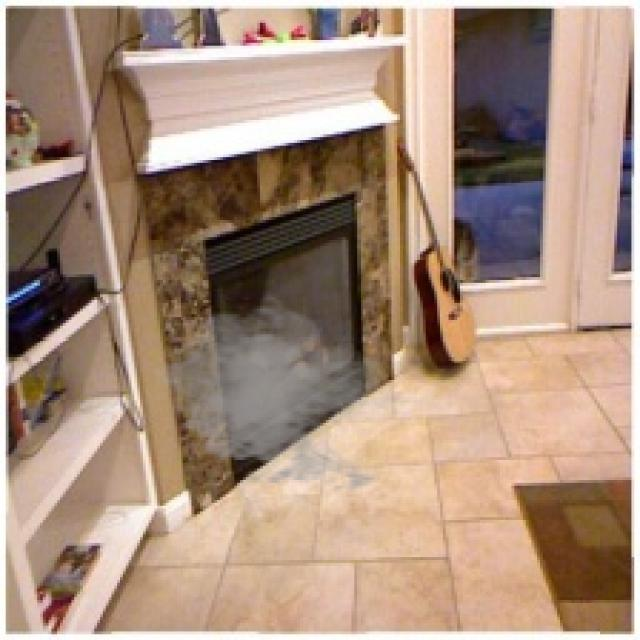smoke: (152, 292, 414, 497)
